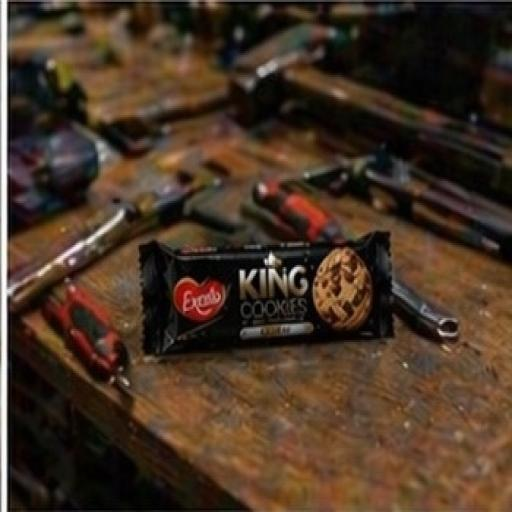king-cooking: (97, 192, 445, 392)
